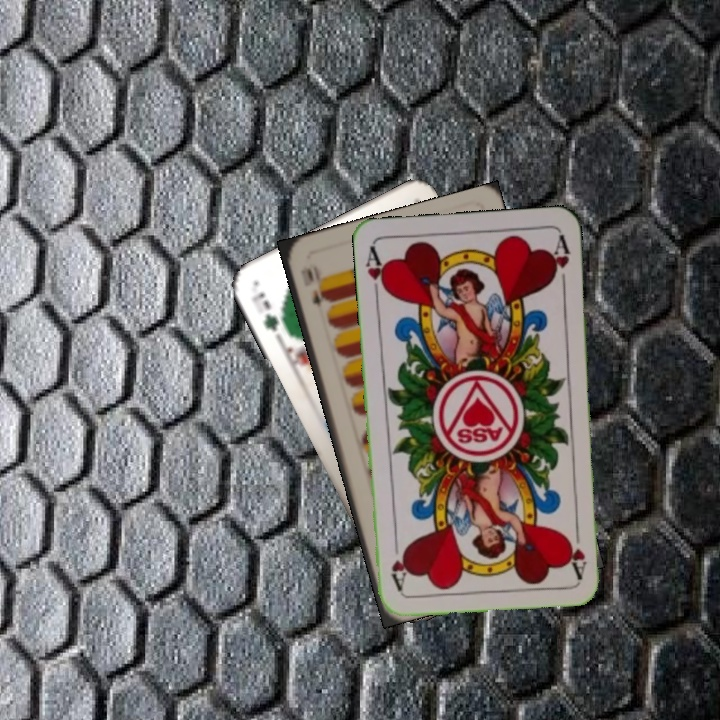E10: (297, 262, 328, 309)
GK: (247, 288, 281, 334)
HA: (361, 243, 391, 302), (566, 520, 590, 580)
